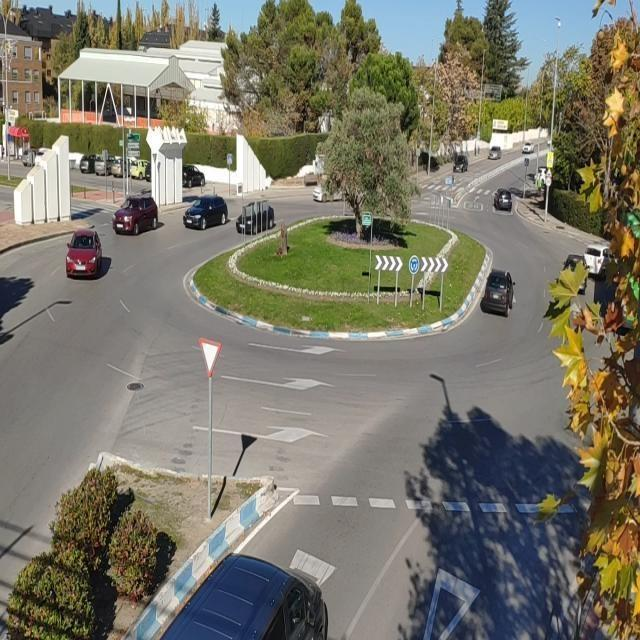Car: (62, 230, 104, 278), (479, 269, 517, 317), (112, 196, 160, 234), (182, 195, 230, 231), (236, 200, 277, 235), (584, 242, 618, 278), (311, 178, 352, 204), (181, 163, 207, 187), (111, 156, 130, 180), (493, 188, 512, 211), (130, 159, 150, 180), (94, 154, 112, 176), (79, 154, 96, 173), (22, 148, 37, 168), (453, 155, 468, 173), (487, 145, 503, 159), (522, 142, 534, 154)
Van: (160, 552, 331, 640)
